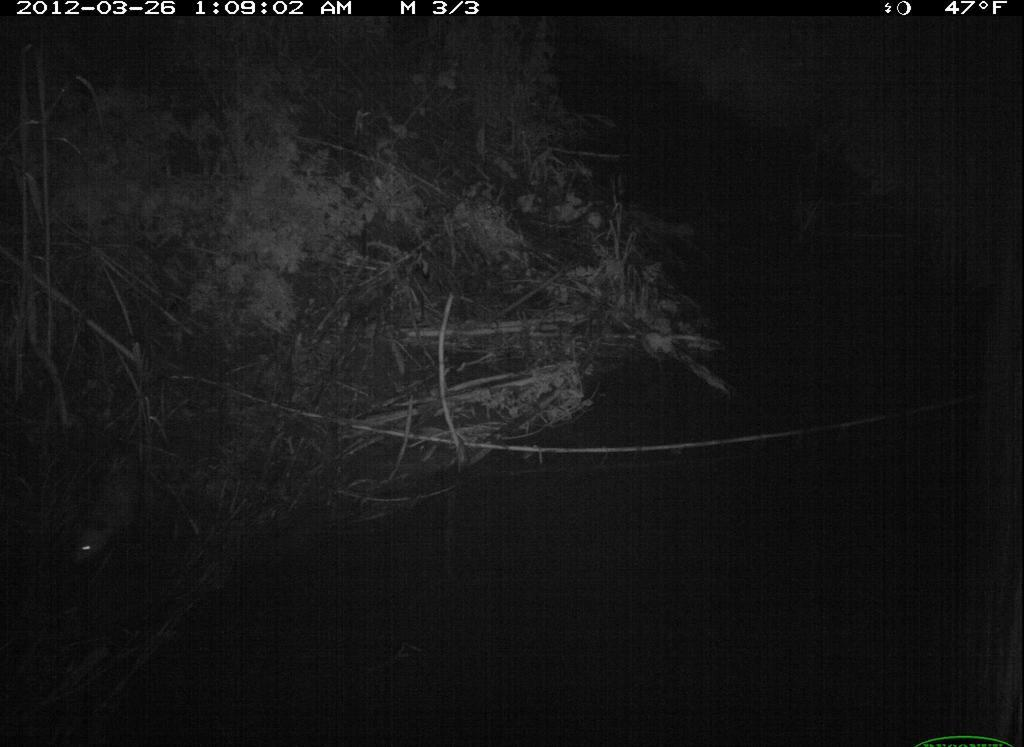opossum: (59, 438, 159, 570)
